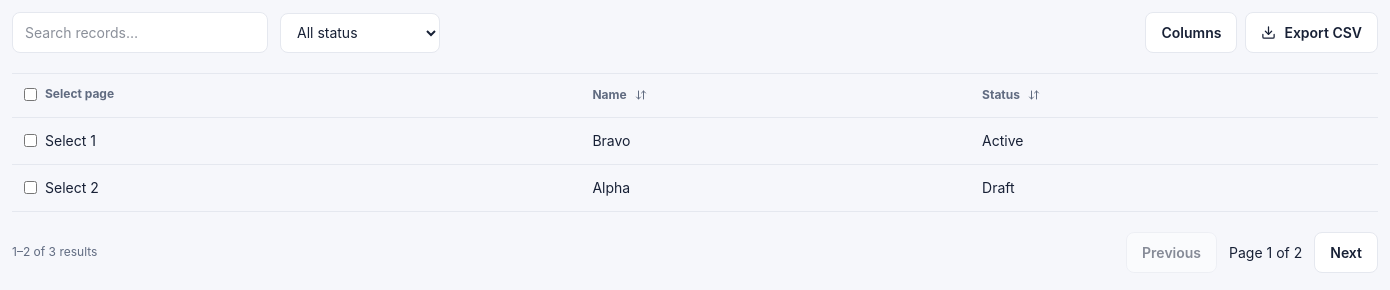
Scenario: DataTable › sorts, searches, filters and paginates the displayed records
Expected: the text "Page 1 of 2" is shown, [1229,242,1302,262]
Click the button "Name".
click(620, 95)  # box [592,87,647,103]
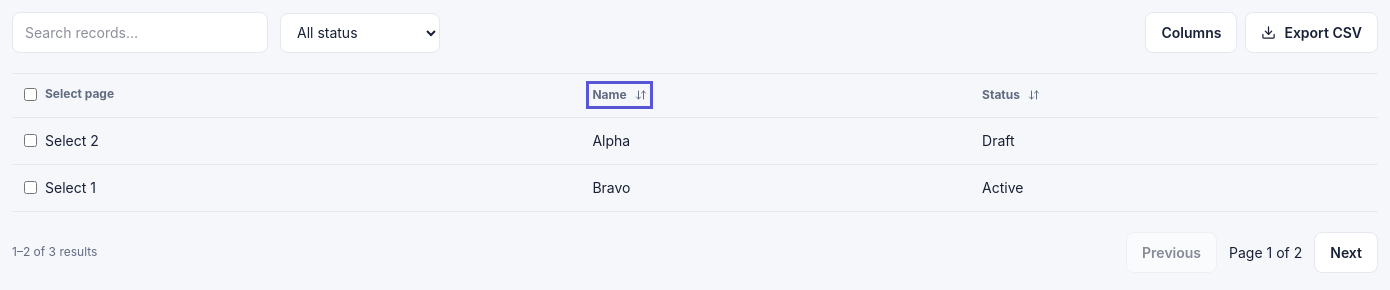
Expected: the text "Alpha" is shown, [580,117,970,164]
Click the button "Next".
click(1346, 252)  # box [1314,232,1378,272]
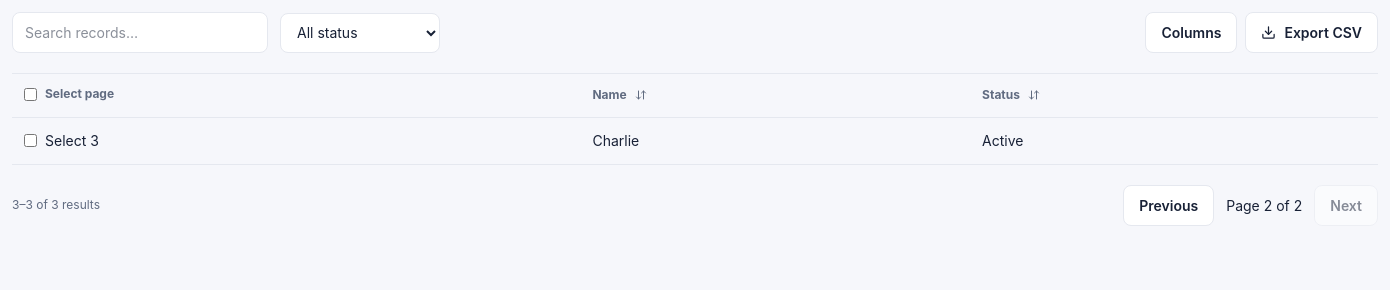
Expected: the text "Charlie" is shown, [580,117,970,164]
Type "Bravo" into the field labelled "Search records".
click(140, 32); type("Bravo")  # box [12,12,268,53]
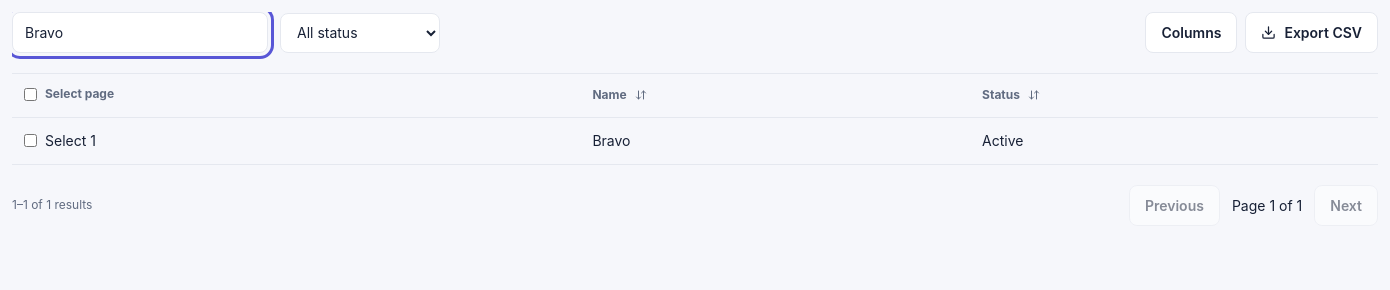
Expected: the text "Bravo" is shown, [580,117,970,164]
Expected: the text "Charlie" is gone
Clear the field named "Search records" at [140, 32], box [12,12,268,53]
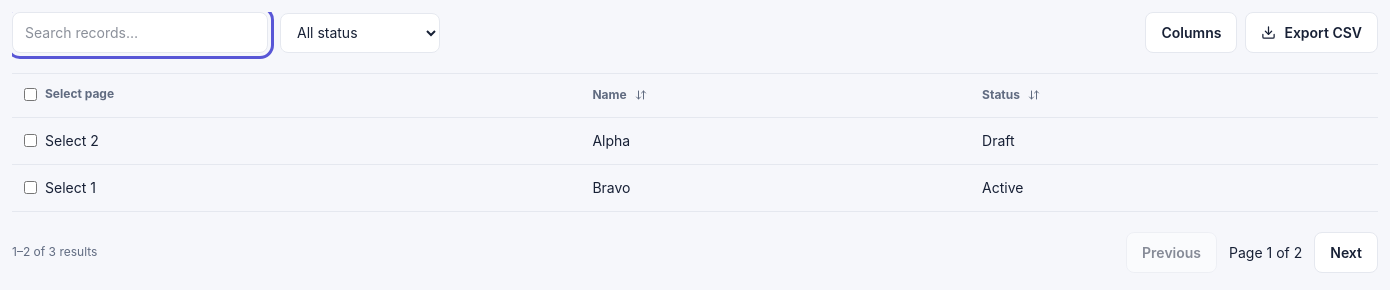
Select "Draft" in the dropdown named "Filter by Status" at [360, 32], box [280,12,440,52]
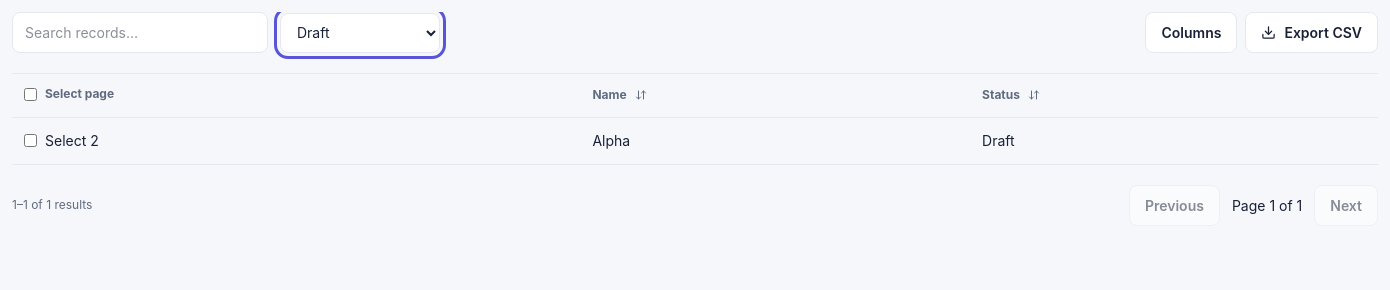
Expected: the text "Alpha" is shown, [580,117,970,164]
Expected: the text "Bravo" is gone
